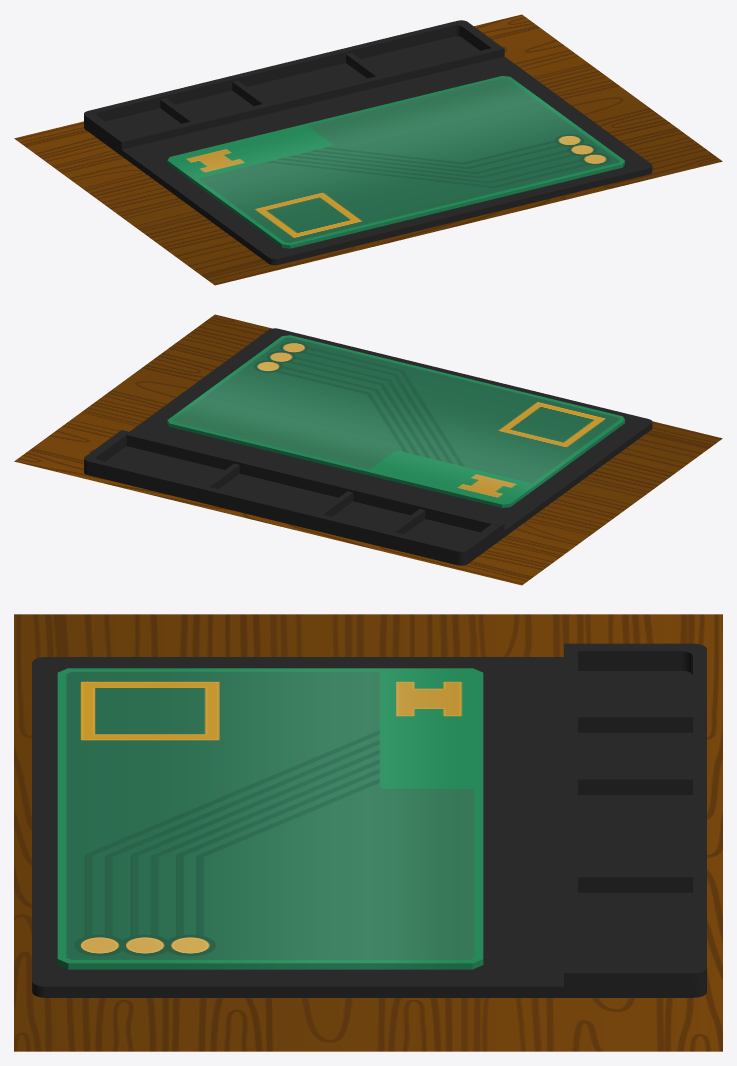
File: ST_stage.fbx
The picture shows the model from 3 angles, top to bottom: view 1: azimuth 30°, elevation 25°; view 2: azimuth 150°, elevation 25°; view 3: azimuth 270°, elevation 25°; orthographic projection. The views are drawn at different scales.
Parts seen in each view (by area): view 1: stage, pCube1, table; view 2: stage, pCube1, table; view 3: stage, pCube1, table, pCube8, pCube7, pCube6.
Boxes of the visible parts, x1,y1,x2,y2 form: stage: (167, 76, 624, 248); pCube1: (84, 20, 652, 265); table: (14, 14, 722, 285); stage: (167, 335, 624, 507); pCube1: (84, 328, 652, 565); table: (14, 314, 722, 585); stage: (57, 668, 483, 969); pCube1: (32, 643, 706, 997); table: (14, 614, 722, 1051); pCube8: (578, 872, 692, 892); pCube7: (578, 774, 692, 794); pCube6: (578, 712, 692, 732).
Size of the model in its own units: 49.26 by 1.29 by 33.75.
Materials: 3 (3 with a texture image).
